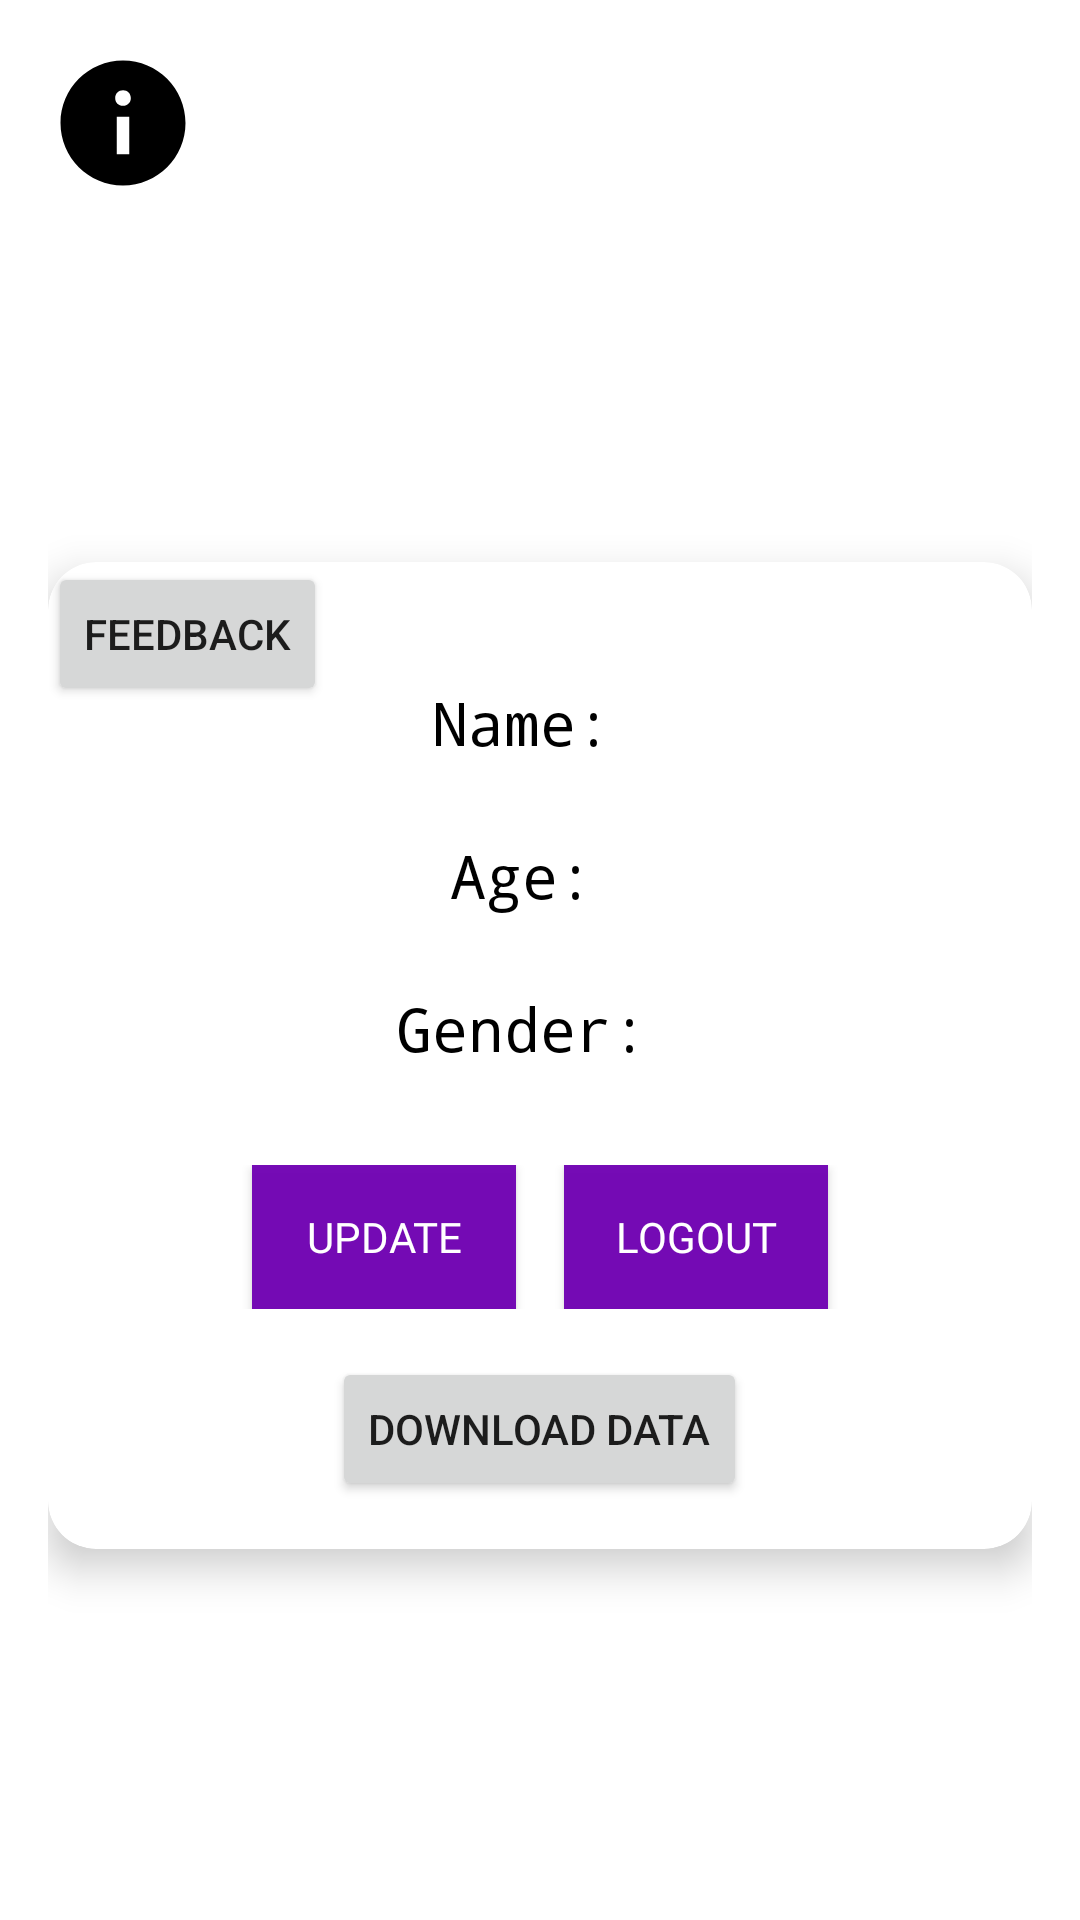

Icon click points for this 1080px×1920px phone screenshot, format (x=x, y=y):
about: (x=123, y=123)
